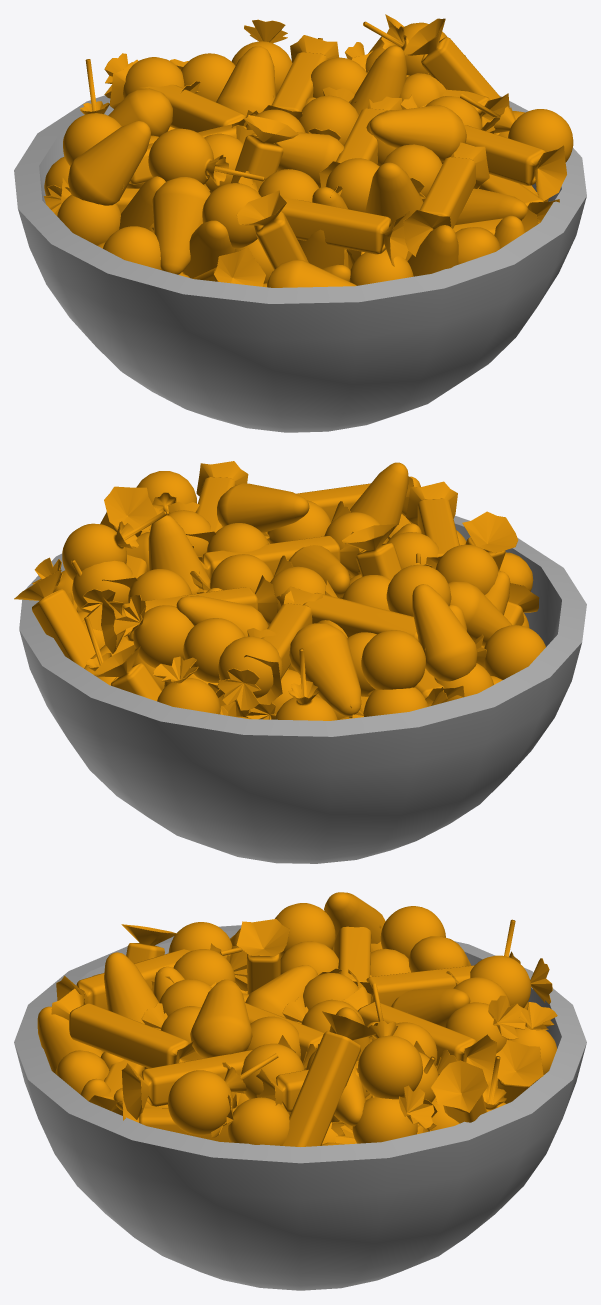
The model's file is Human candy bowl.fbx.
3 renders of one model, top to bottom at view 1: azimuth 30°, elevation 25°; view 2: azimuth 150°, elevation 25°; view 3: azimuth 270°, elevation 25°, orthographic.
Parts seen in each view (by area): view 1: PlaceholderBowl, pCube9 (×2), candy_corn6 (×2), pCube8 (×2), pCube12 (×2), candy_corn2 (×2), candy_corn12 (×3), candy_corn7 (×2), lollipop12 (×2), candy_corn8, lollipop2, lollipop6 (×2) (+27 smaller); view 2: PlaceholderBowl, pCube11 (×3), lollipop6 (×2), wrapper_candy_ball5 (×2), candy_corn6 (×2), wrapper_candy_ball4 (×2), candy_corn5, pCube9 (×2), pCube7 (×2), pCube6 (×2), candy_corn8, wrapper_candy_ball10 (×2) (+29 smaller); view 3: PlaceholderBowl, pCube11 (×3), pCube8 (×2), wrapper_candy_ball10 (×2), lollipop11 (×2), pCube9 (×2), lollipop10, candy_corn8, wrapper_candy_ball11 (×2), pCube5, pCube12 (×2), pCube3 (+30 smaller).
Part boxes in pixels (x1,y1,x2,y2): PlaceholderBowl: (14, 95, 586, 432); pCube9 (×2): (236, 102, 566, 269); candy_corn6 (×2): (68, 121, 234, 278); pCube8 (×2): (403, 142, 559, 256); pCube12 (×2): (250, 181, 538, 266); candy_corn2 (×2): (152, 177, 344, 274); candy_corn12 (×3): (267, 215, 525, 287); candy_corn7 (×2): (365, 162, 527, 224); lollipop12 (×2): (202, 183, 413, 285); candy_corn8: (369, 105, 466, 162); lollipop2: (148, 128, 265, 185); lollipop6 (×2): (63, 113, 160, 269); PlaceholderBowl: (19, 515, 586, 863); pCube11 (×3): (14, 486, 161, 701); lollipop6 (×2): (361, 625, 545, 695); wrapper_candy_ball5 (×2): (217, 628, 447, 718); candy_corn6 (×2): (412, 571, 510, 681); wrapper_candy_ball4 (×2): (113, 595, 300, 719); candy_corn5: (289, 623, 361, 716); pCube9 (×2): (186, 461, 518, 570); pCube7 (×2): (283, 583, 539, 651); pCube6 (×2): (244, 586, 464, 706); candy_corn8: (217, 483, 309, 532); wrapper_candy_ball10 (×2): (32, 557, 220, 714); PlaceholderBowl: (14, 925, 586, 1290); pCube11 (×3): (282, 1011, 543, 1146); pCube8 (×2): (51, 988, 290, 1142); wrapper_candy_ball10 (×2): (335, 1002, 557, 1144); lollipop11 (×2): (168, 1053, 506, 1135); pCube9 (×2): (121, 924, 295, 1119); lollipop10: (358, 983, 422, 1099); candy_corn8: (190, 979, 252, 1058); wrapper_candy_ball11 (×2): (211, 1094, 459, 1145); pCube5: (341, 987, 496, 1082); pCube12 (×2): (56, 943, 221, 1115); pCube3: (236, 919, 289, 994).
Size of the model in its own units: 49.19 by 29.67 by 49.19.
